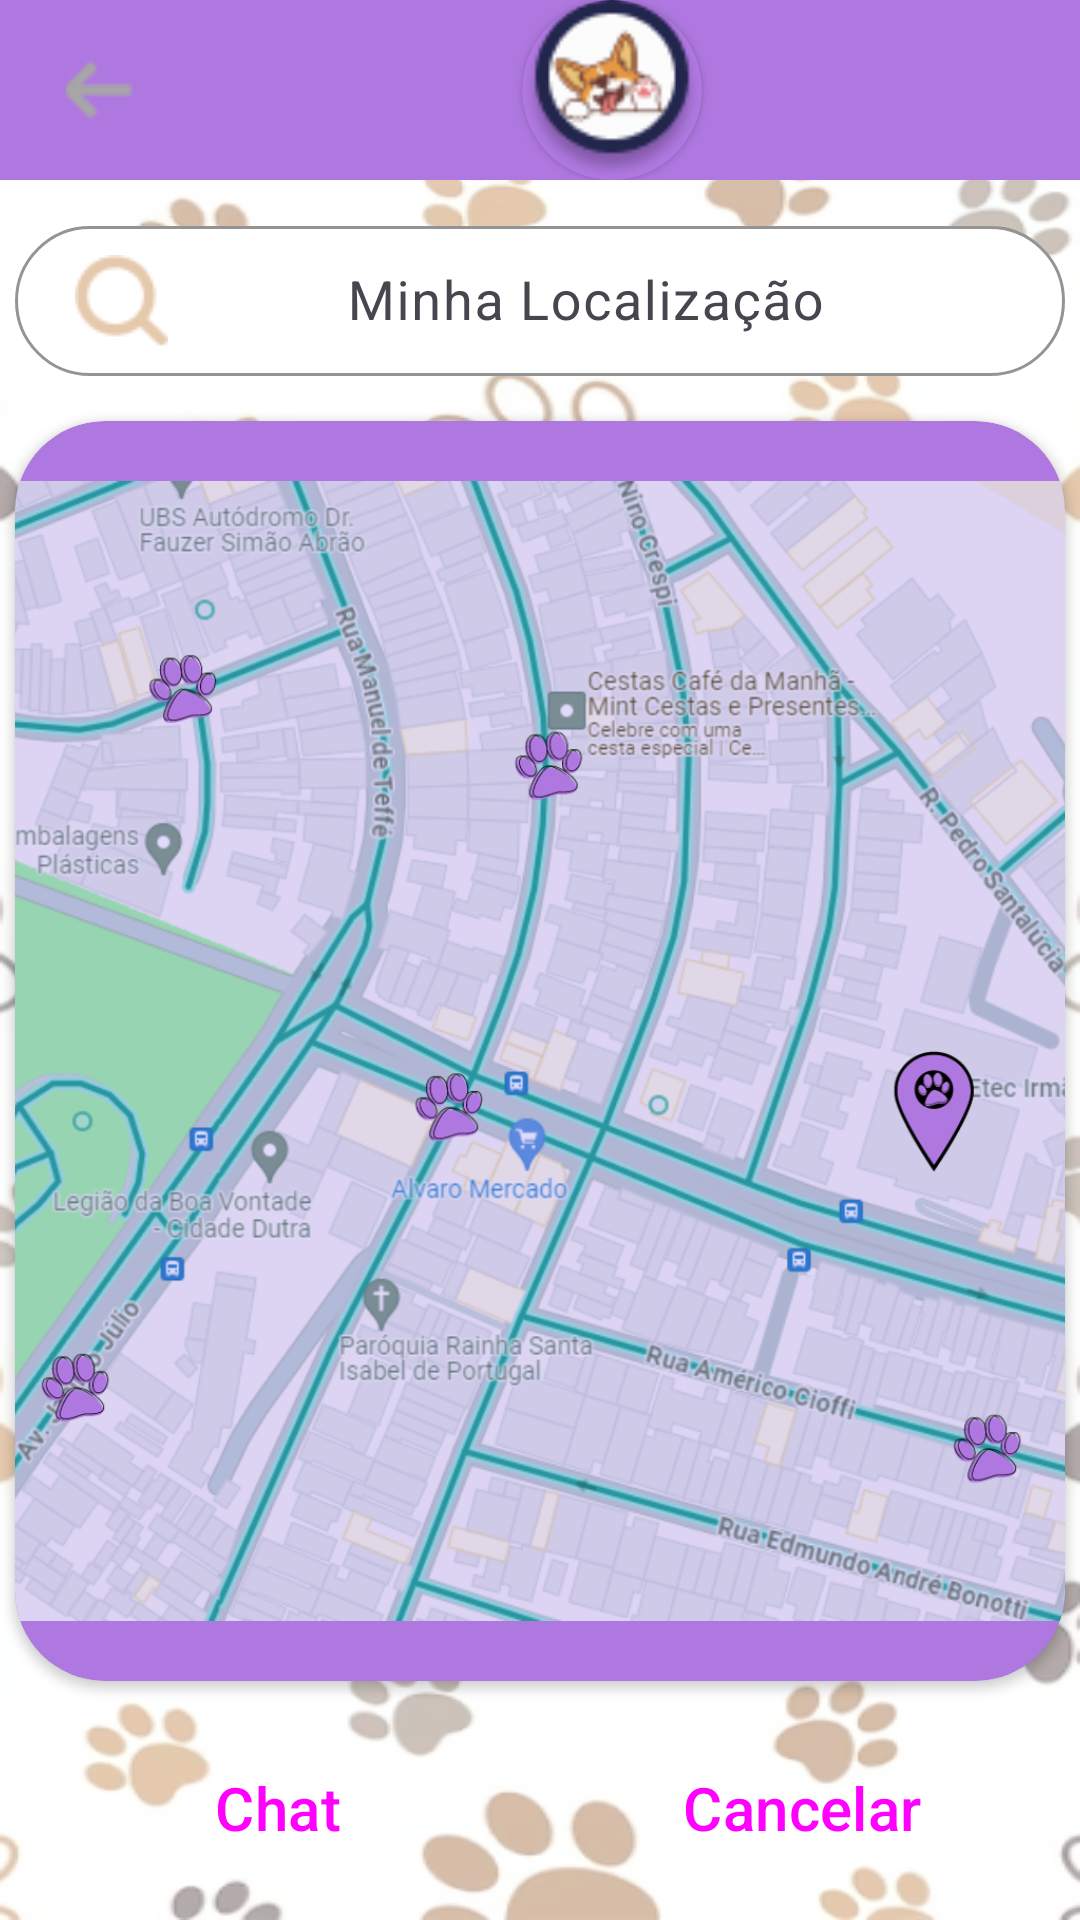

Where to tap for icons on this 1080 x 1920 app screen, as (x,y):
perfil: (612,88)
